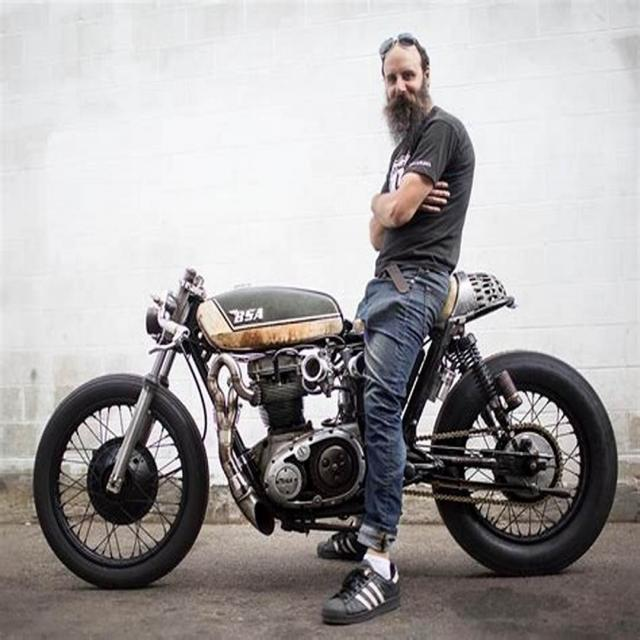Not Wearing Helmet: (314, 13, 519, 168)
